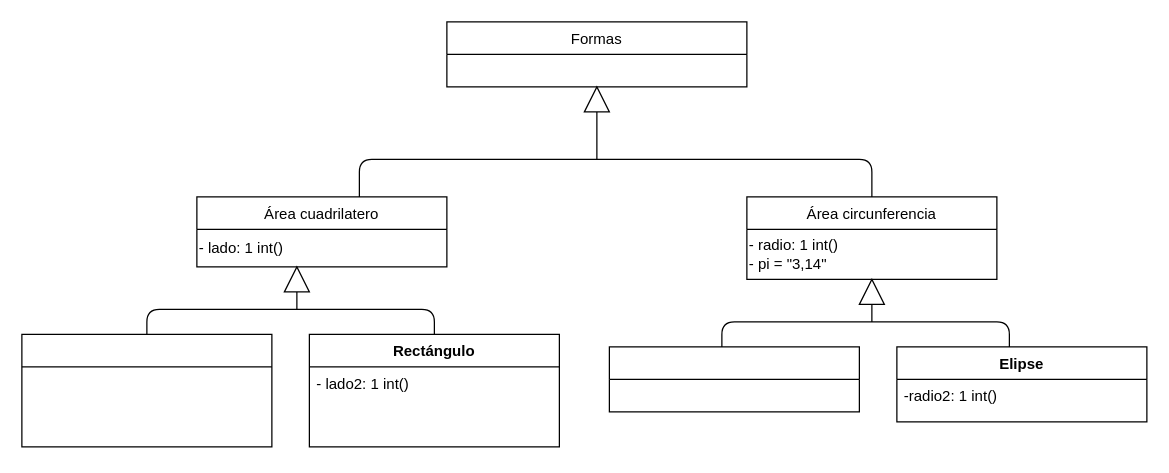
This 1169x473 diagram has some shape labels left out. The centre of each missing label's shape, as x and y in pixels:
"Cuadrado" goes at [146,390].
"Círculo" goes at [733,379].
